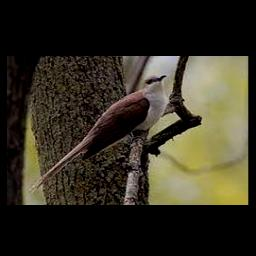Cuckoo: (28, 74, 166, 194)
